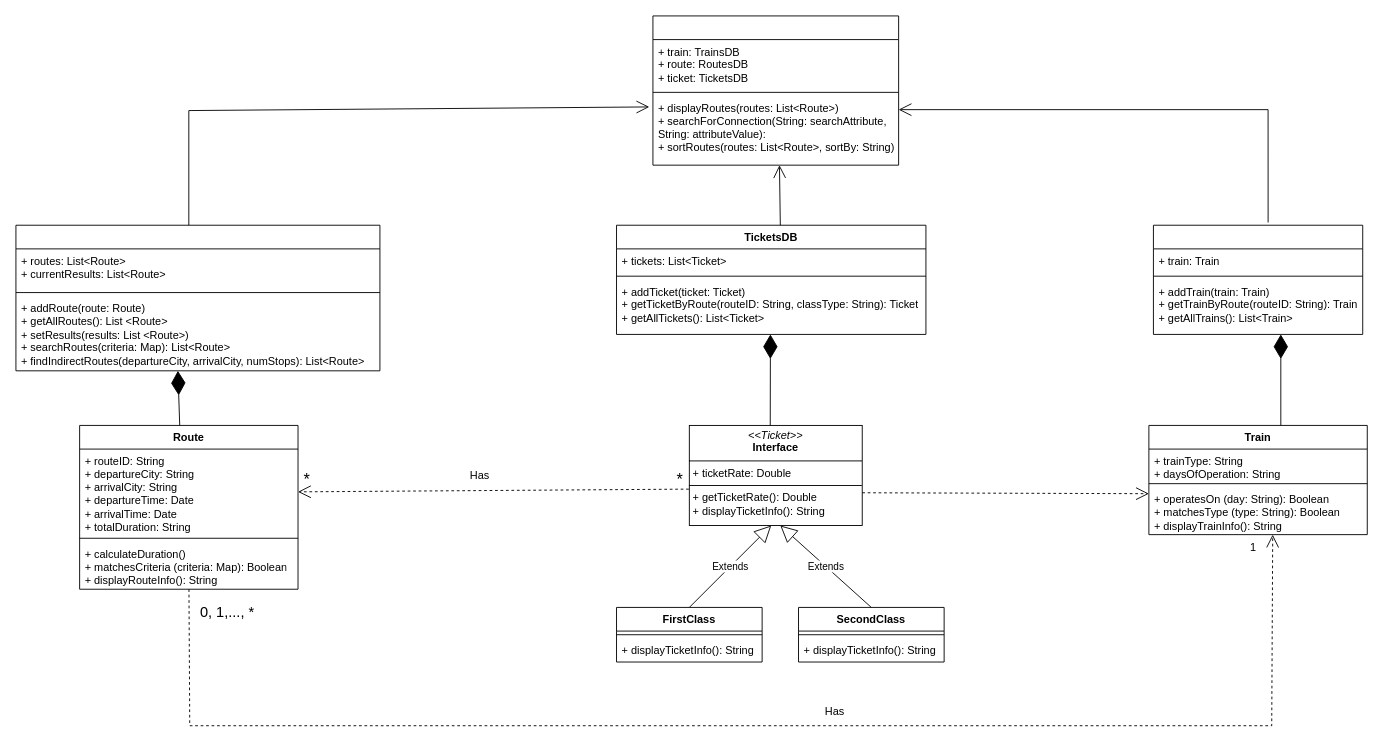
The diagram is 1383 pixels wide and 754 high, and some of its shapes have lost their labels. Each missing label, with the box of its shape:
Console: (652, 15, 899, 165)
RoutesDB: (15, 224, 380, 371)
TrainsDB: (1153, 224, 1363, 334)
